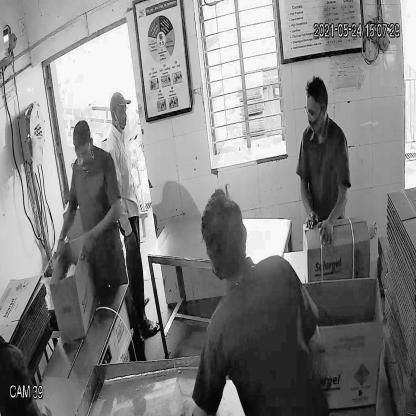goggles: (72, 138, 93, 164), (303, 100, 326, 121)
